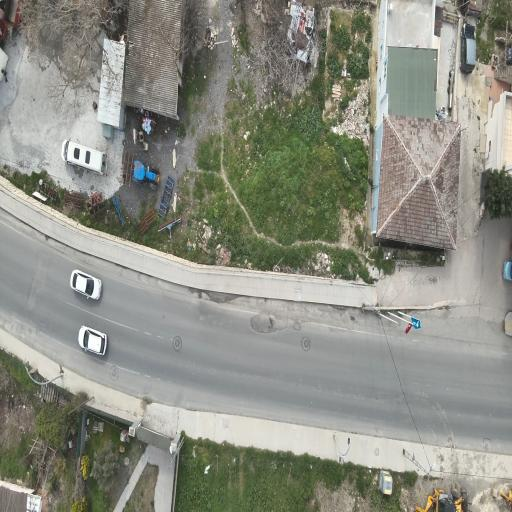car: (62, 139, 107, 174), (71, 269, 101, 298), (132, 160, 159, 190), (79, 325, 106, 354), (460, 22, 475, 72), (503, 260, 511, 279)
